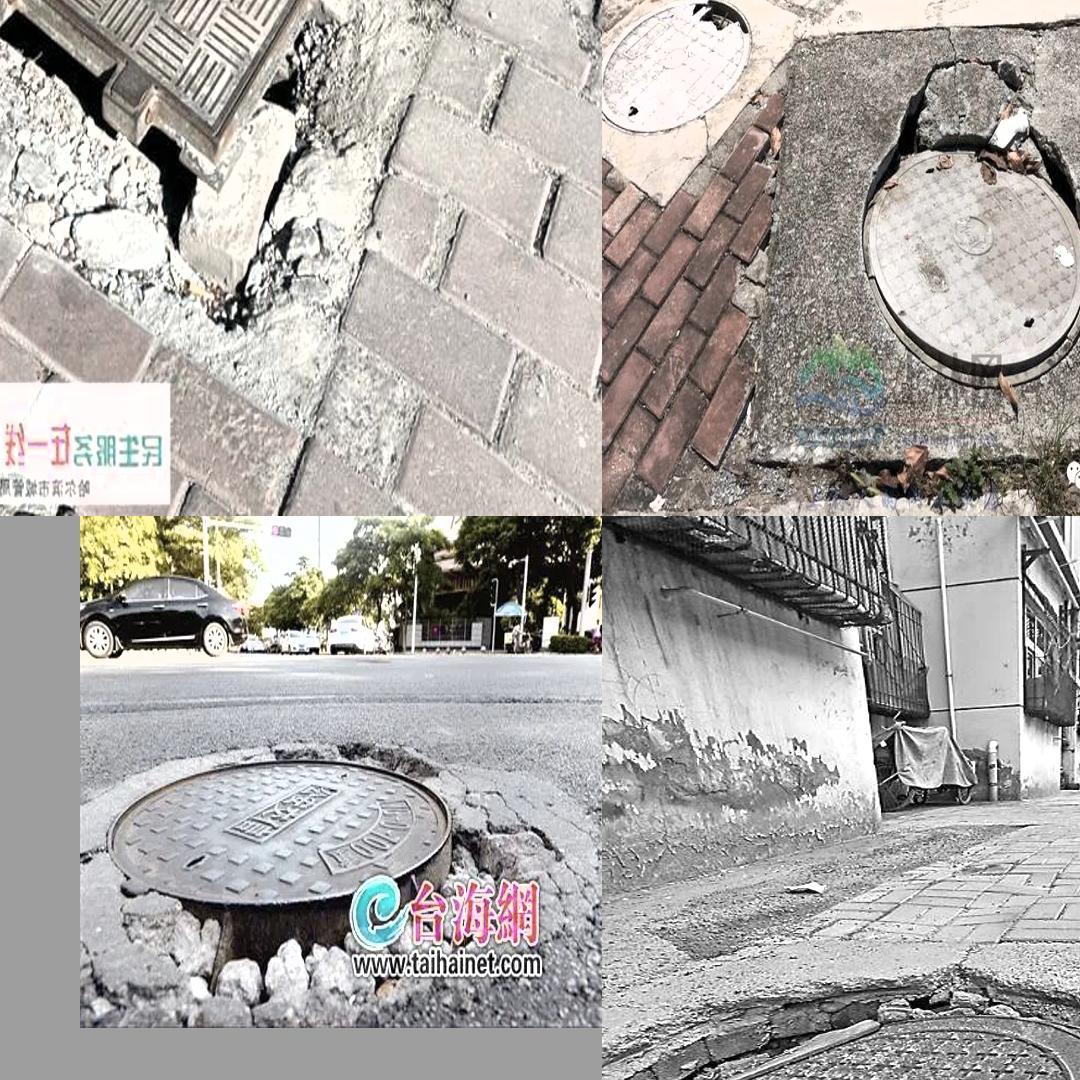circle: (0, 0, 473, 348), (740, 5, 1080, 466), (88, 740, 573, 999), (603, 942, 1080, 1080)
